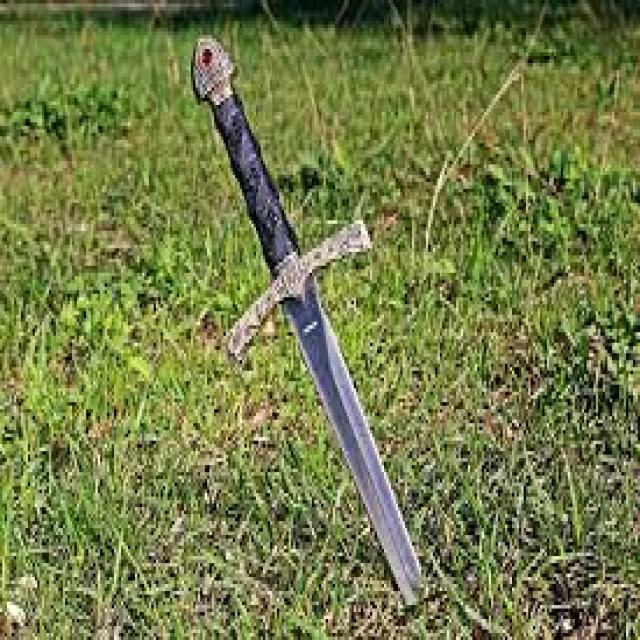Gun: (176, 34, 444, 616)
